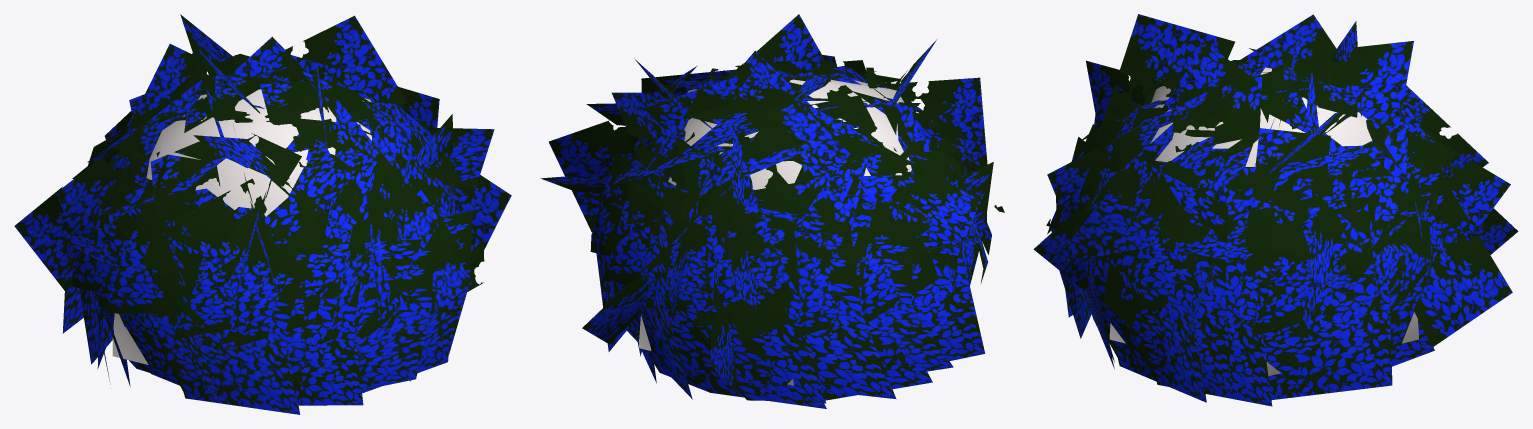
Rendered from Homeworld_Exterior_Fd_Plant_Grass_ZhucHuang_01_Lod0.fbx.
3 renders of one model, left to right at view 1: azimuth 30°, elevation 25°; view 2: azimuth 150°, elevation 25°; view 3: azimuth 270°, elevation 25°, orthographic.
Visible parts, largest first — view 1: Area_Fd_Grass_Common_MGrass03_Lod0, EffectMesh; view 2: Area_Fd_Grass_Common_MGrass03_Lod0, EffectMesh; view 3: Area_Fd_Grass_Common_MGrass03_Lod0, EffectMesh.
Part boxes in pixels (box(x1,y1,x2,y2)): Area_Fd_Grass_Common_MGrass03_Lod0: box(14, 14, 511, 414); EffectMesh: box(112, 89, 371, 364); Area_Fd_Grass_Common_MGrass03_Lod0: box(540, 14, 1004, 408); EffectMesh: box(639, 79, 911, 385); Area_Fd_Grass_Common_MGrass03_Lod0: box(1033, 14, 1518, 406); EffectMesh: box(1109, 67, 1418, 376).
Size of the model in its own units: 3.43 by 2.52 by 3.43.
